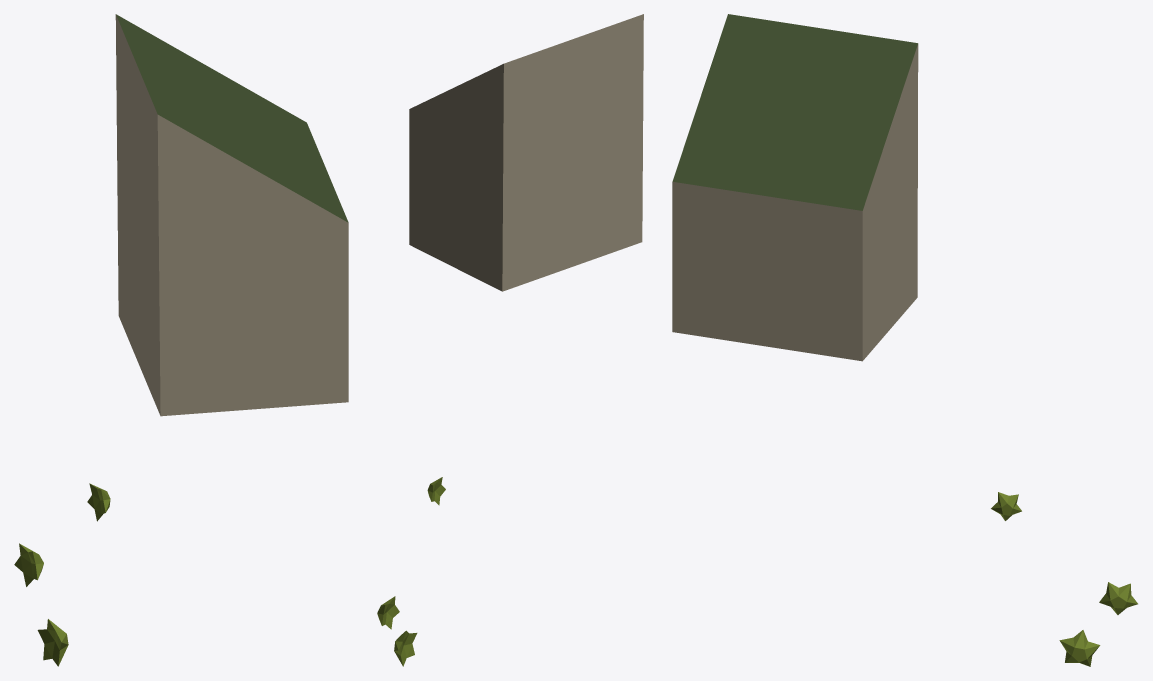
The picture shows the model from 3 angles, left to right: view 1: azimuth 30°, elevation 25°; view 2: azimuth 150°, elevation 25°; view 3: azimuth 270°, elevation 25°; orthographic projection. The views are drawn at different scales.
Parts seen in each view (by area): view 1: Box1015_wall3_0, Box1015_roof1_0, Box16125_green2_0, Box16127_green2_0, Box16132_green2_0; view 2: Box1015_wall3_0, Box16125_green2_0, Box16127_green2_0; view 3: Box1015_wall3_0, Box1015_roof1_0, Box16125_green2_0, Box16127_green2_0.
Boxes of the visible parts, x1,y1,x2,y2 form: Box1015_wall3_0: [115, 14, 348, 416]; Box1015_roof1_0: [116, 14, 348, 222]; Box16125_green2_0: [37, 619, 68, 666]; Box16127_green2_0: [14, 543, 43, 586]; Box16132_green2_0: [87, 483, 110, 521]; Box1015_wall3_0: [409, 14, 643, 291]; Box16125_green2_0: [394, 630, 417, 666]; Box16127_green2_0: [377, 596, 399, 629]; Box1015_wall3_0: [672, 44, 918, 361]; Box1015_roof1_0: [672, 14, 917, 210]; Box16125_green2_0: [1059, 630, 1100, 666]; Box16127_green2_0: [1099, 582, 1137, 614].
Bounding box in the file's own units: 564 × 1712 × 1183.
